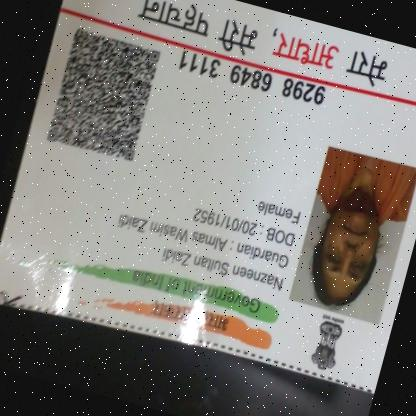aadhaar_card: (0, 0, 415, 403)
